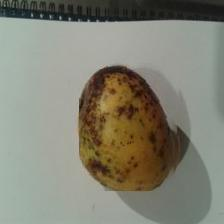Mango Semirotten: (79, 60, 181, 191)
